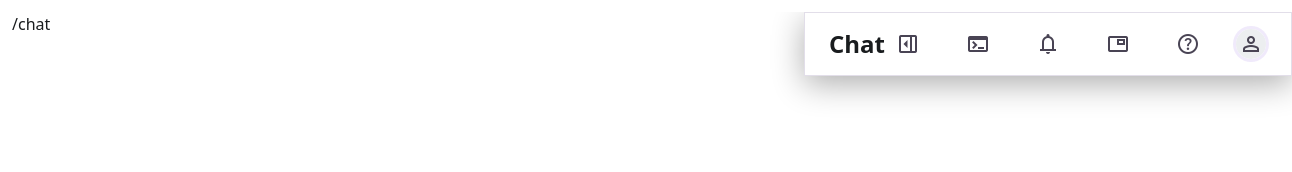
Test: Header component › avatar button navigates to /settings
The image size is (1292, 172).
Click the button named "Open settings": click(1251, 44) 1235,28 -> 1267,60
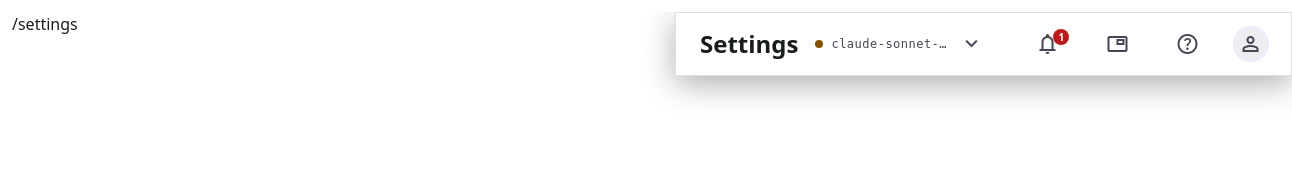
Expected: the text with test id "header-location" reads "/settings", 12,13 -> 78,35
